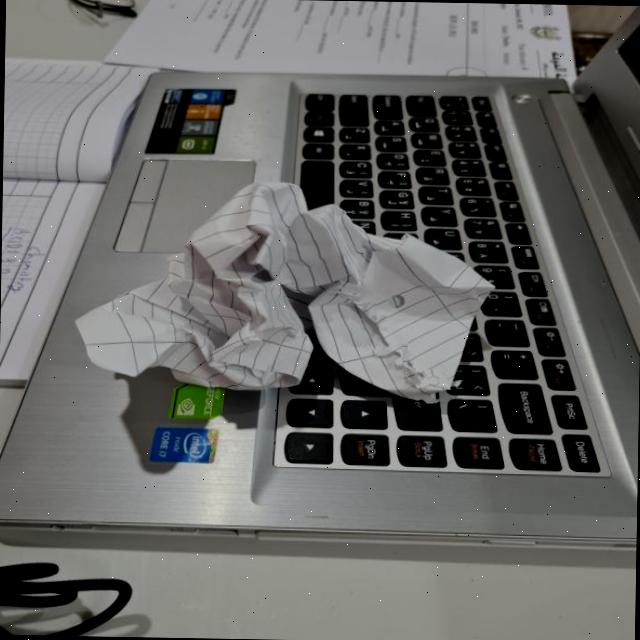trash: (74, 180, 488, 390)
